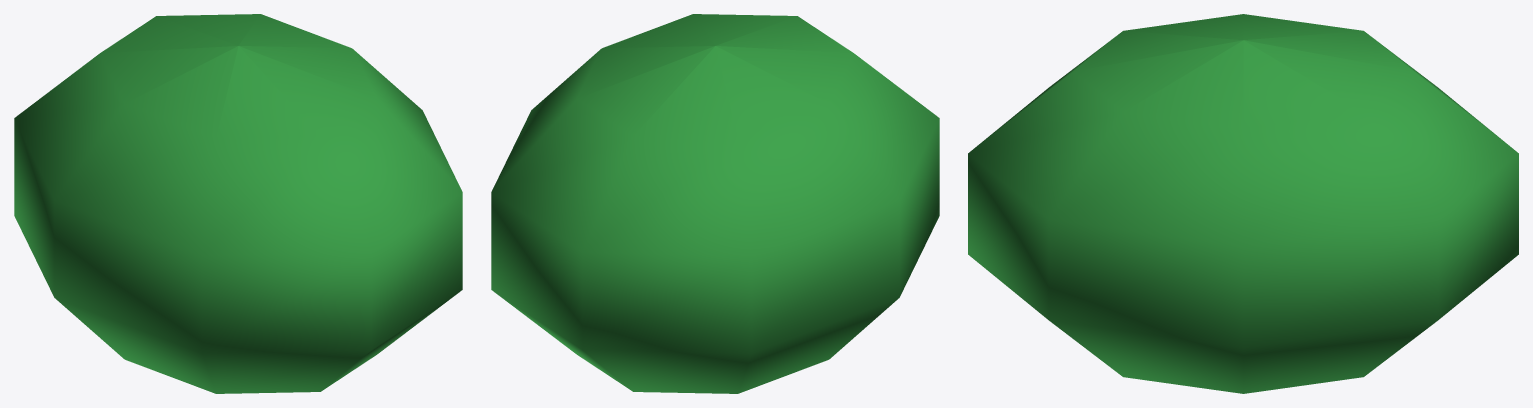
File: fruit-watermelon-gold-far.glb
3 renders of one model, left to right at view 1: azimuth 30°, elevation 25°; view 2: azimuth 150°, elevation 25°; view 3: azimuth 270°, elevation 25°, orthographic. The views are drawn at different scales.
Visible parts, largest first — view 1: fruit-watermelon-far; view 2: fruit-watermelon-far; view 3: fruit-watermelon-far.
Part boxes in pixels (<box>): fruit-watermelon-far: <box>14,14,462,393</box>; fruit-watermelon-far: <box>491,14,939,393</box>; fruit-watermelon-far: <box>968,14,1518,393</box>.
Size of the model in its own units: 1.05 by 0.858 by 1.31.
